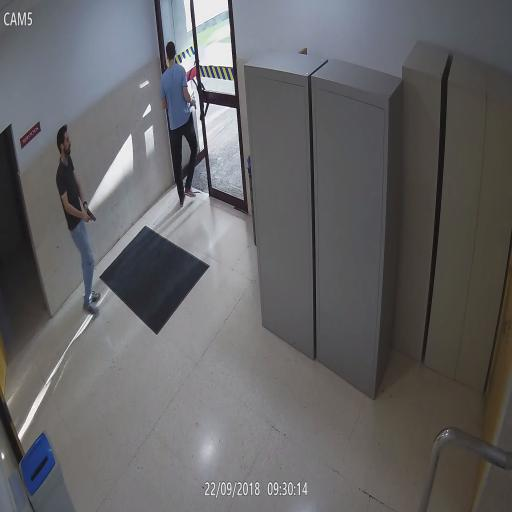Handgun: (83, 206, 96, 224)
